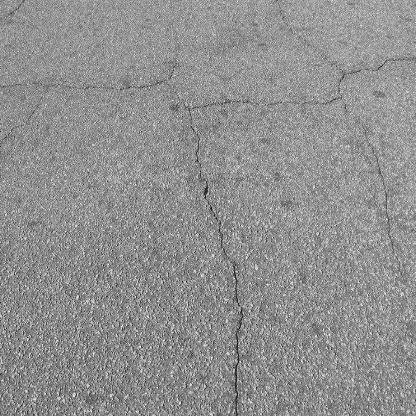Cracks: (0, 0, 416, 407), (0, 0, 48, 37), (232, 408, 243, 416)
